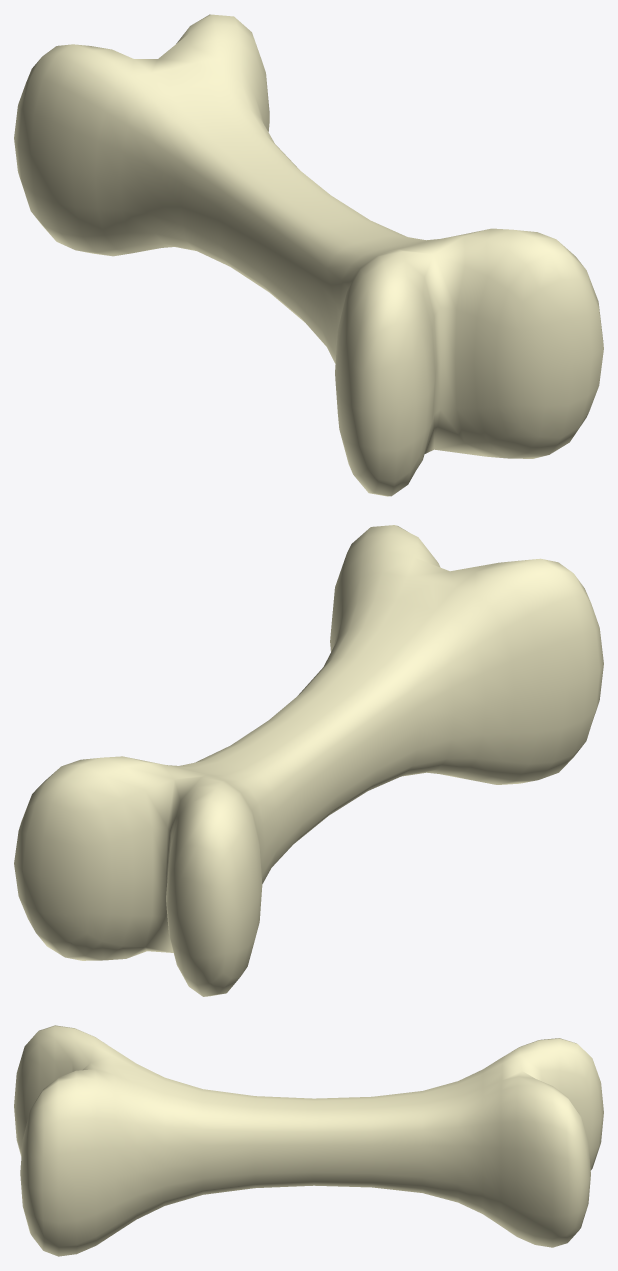
Rendered from Hueso grande.fbx.
The picture shows the model from 3 angles, top to bottom: view 1: azimuth 30°, elevation 25°; view 2: azimuth 150°, elevation 25°; view 3: azimuth 270°, elevation 25°; orthographic projection. The views are drawn at different scales.
Parts seen in each view (by area): view 1: pCube35; view 2: pCube35; view 3: pCube35.
Part boxes in pixels (box(x1,y1,x2,y2)): pCube35: box(14, 14, 603, 496); pCube35: box(14, 525, 603, 996); pCube35: box(14, 1025, 603, 1256).
Size of the model in its own units: 0.3647 by 0.3037 by 0.9375.
